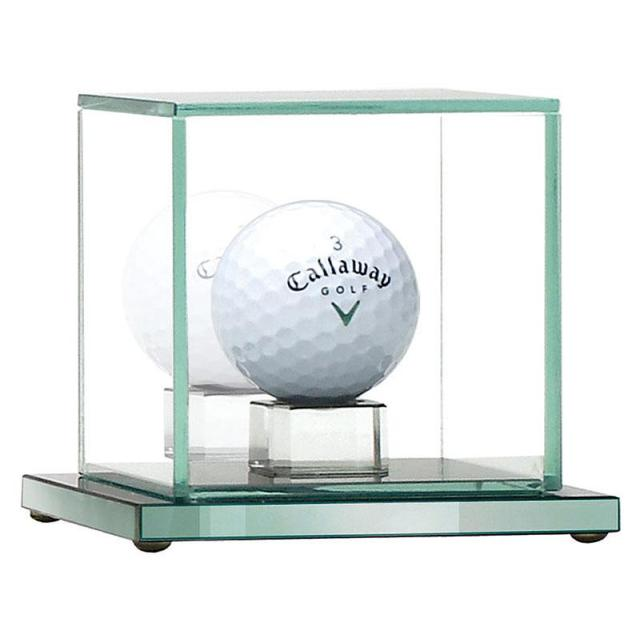ball: (202, 196, 425, 406)
